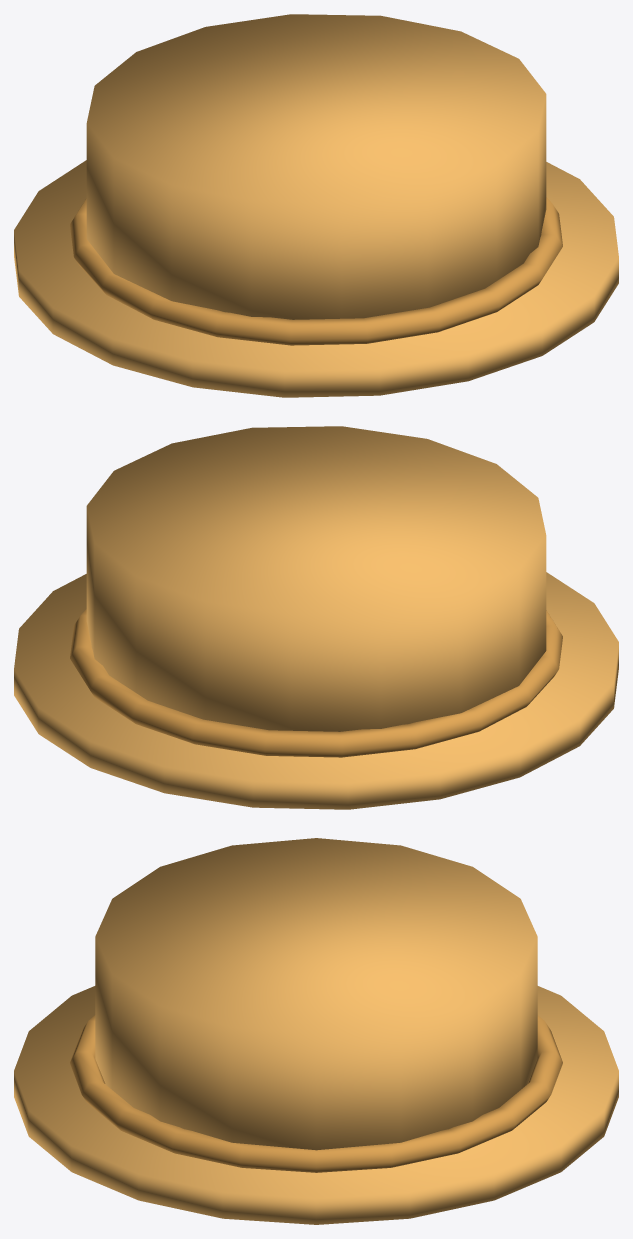
The model's file is accessory-hat.glb.
3 renders of one model, top to bottom at view 1: azimuth 30°, elevation 25°; view 2: azimuth 150°, elevation 25°; view 3: azimuth 270°, elevation 25°, orthographic.
Visible parts, largest first — view 1: Acc_Hat_Crown, Acc_Hat_Brim, Acc_Hat_Band; view 2: Acc_Hat_Crown, Acc_Hat_Brim, Acc_Hat_Band; view 3: Acc_Hat_Crown, Acc_Hat_Brim, Acc_Hat_Band.
Part boxes in pixels (x1,y1,x2,y2): Acc_Hat_Crown: (86, 14, 546, 319); Acc_Hat_Brim: (14, 160, 618, 397); Acc_Hat_Band: (70, 197, 562, 345); Acc_Hat_Crown: (86, 426, 546, 731); Acc_Hat_Brim: (14, 572, 618, 809); Acc_Hat_Band: (70, 609, 562, 757); Acc_Hat_Crown: (95, 838, 537, 1150); Acc_Hat_Brim: (14, 986, 618, 1224); Acc_Hat_Band: (70, 1015, 562, 1172).
Size of the model in its own units: 0.52 by 0.1525 by 0.52.
